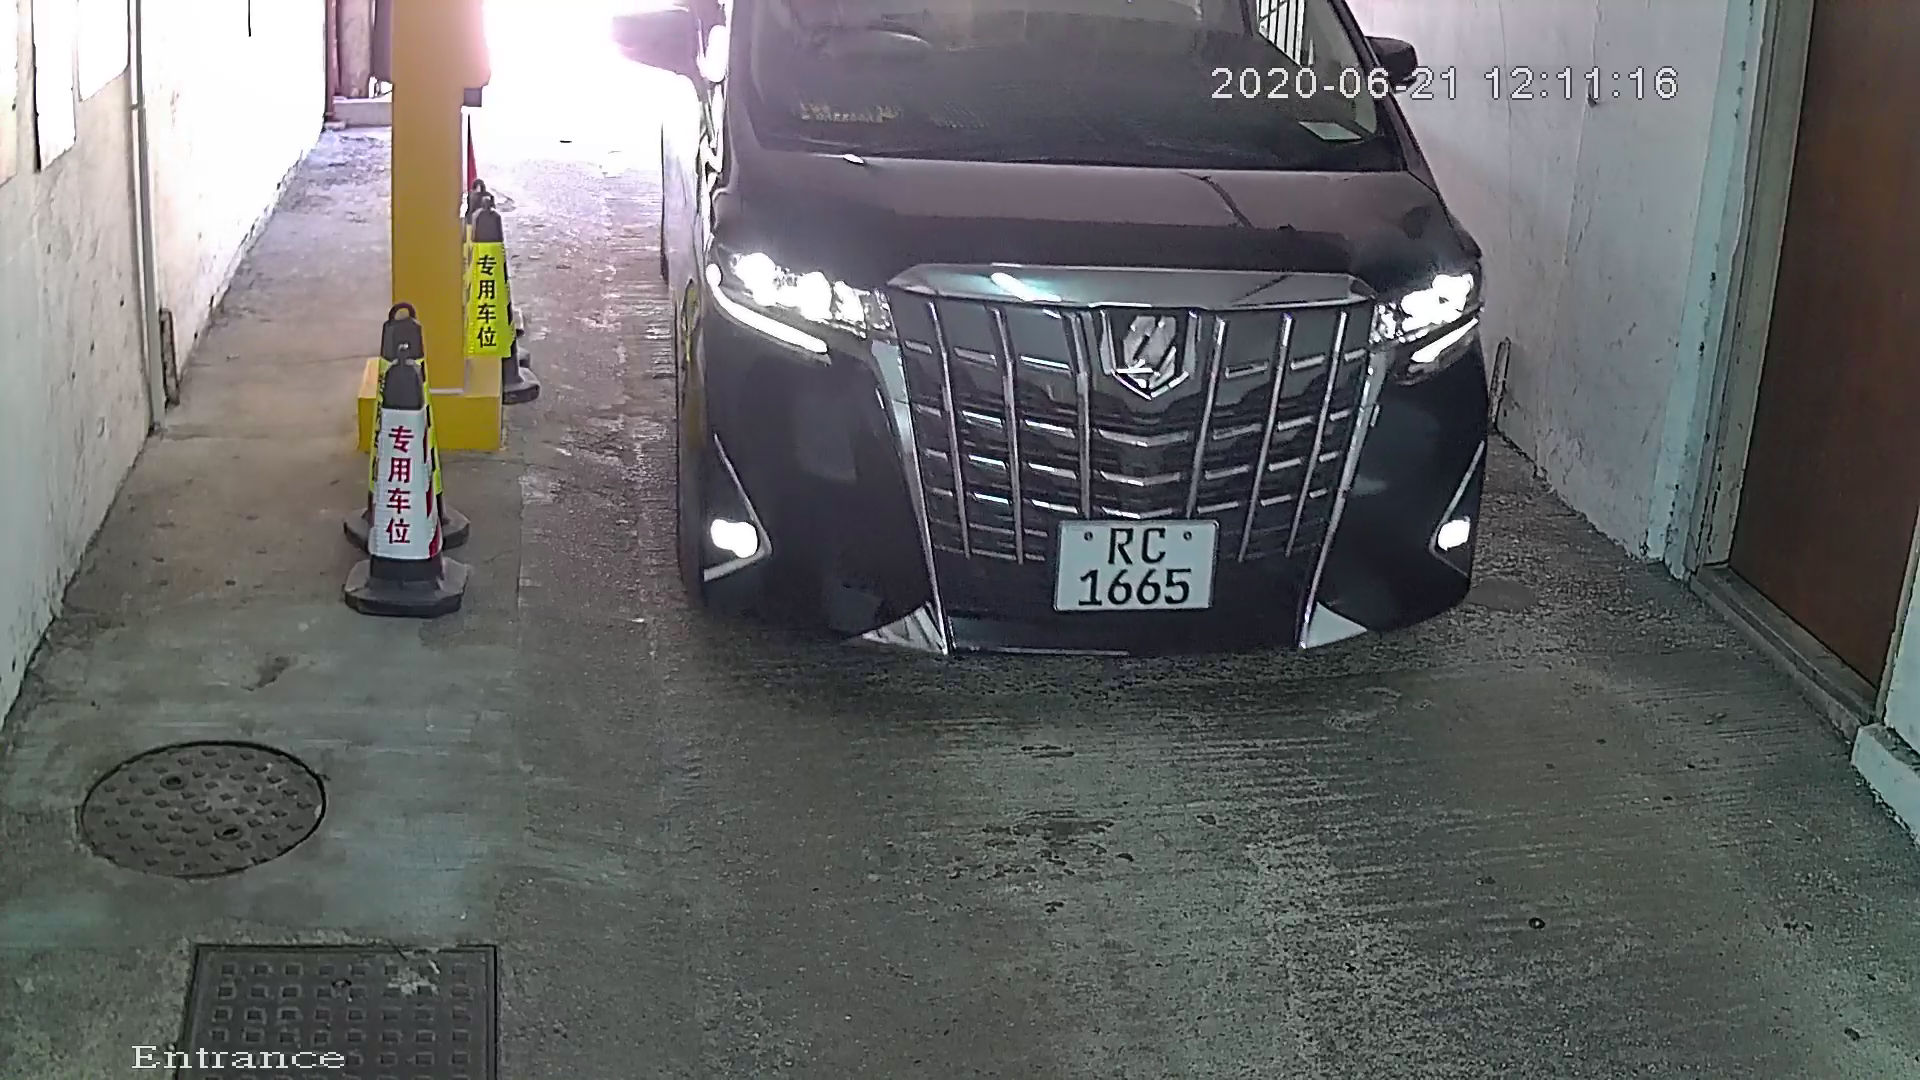privatecar: (607, 3, 1569, 787)
